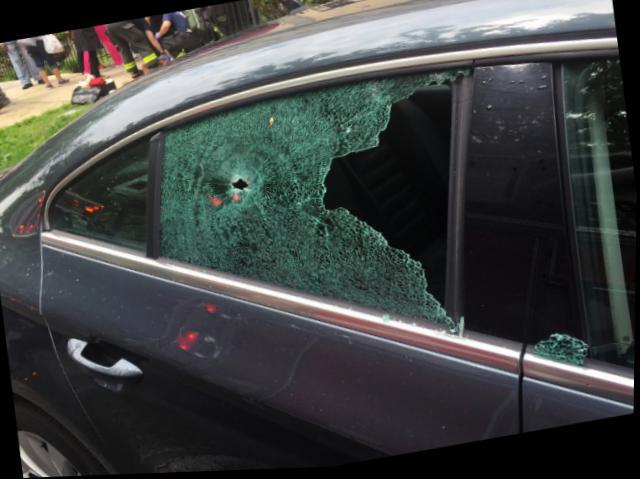glass shatter: (161, 73, 474, 331)
